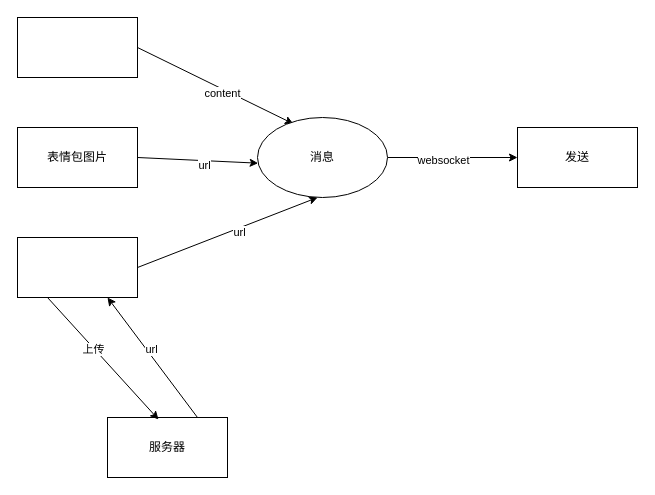
The diagram is 655 pixels wide and 495 high, and some of its shapes have lost their labels. Each missing label, with the centre of its shape:
"图片语音" belongs at point (77, 267).
"文字" belongs at point (77, 47).
